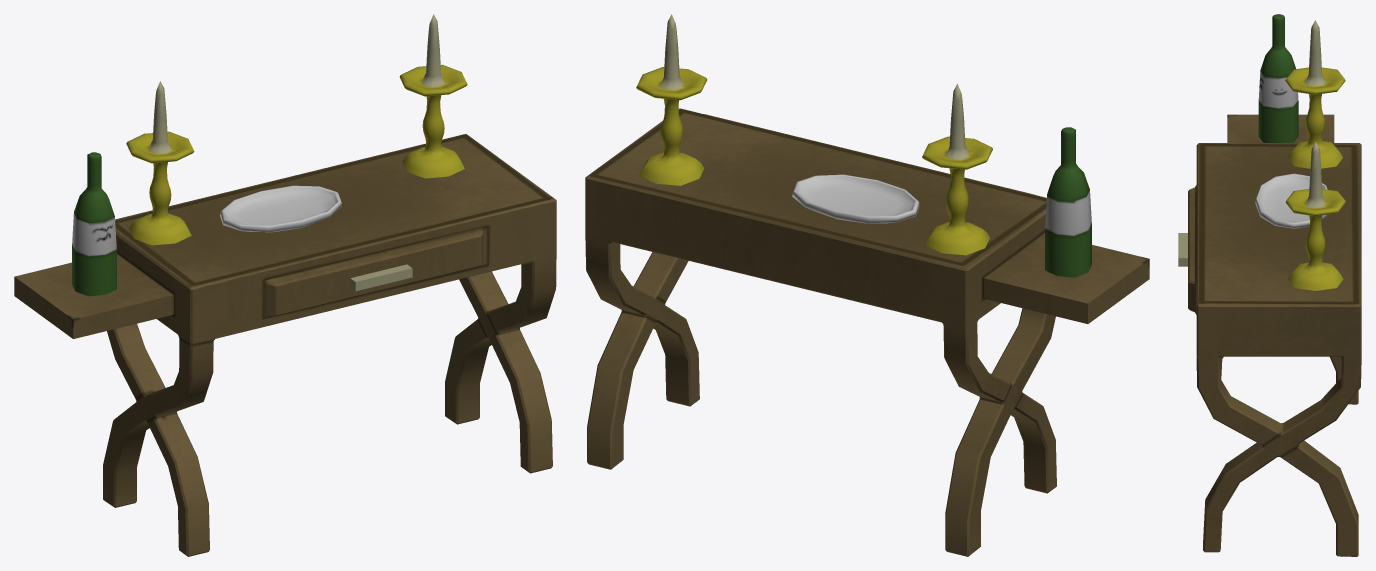
File: wine table.fbx
3 renders of one model, left to right at view 1: azimuth 30°, elevation 25°; view 2: azimuth 150°, elevation 25°; view 3: azimuth 270°, elevation 25°, orthographic. The views are drawn at different scales.
Parts seen in each view (by area): view 1: polySurface602; view 2: polySurface602; view 3: polySurface602.
Boxes of the visible parts, x1,y1,x2,y2 form: polySurface602: (14, 14, 556, 556); polySurface602: (585, 14, 1149, 556); polySurface602: (1178, 14, 1361, 556).
Size of the model in its own units: 2.38 by 2.08 by 0.887.
1 material, 1 textured.
